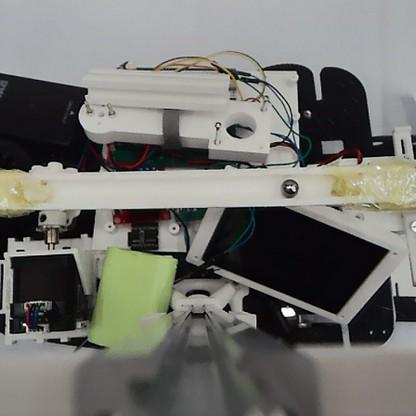ironball: (278, 175, 300, 199)
